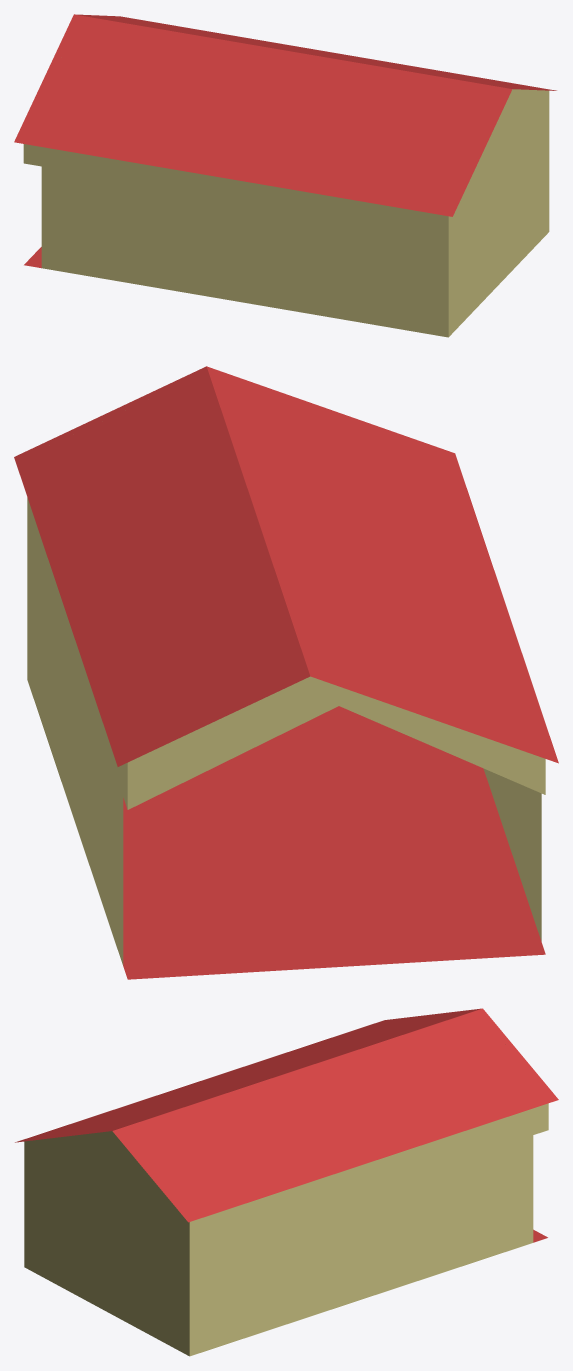
3 views of the same model, one above another, from view 1: azimuth 30°, elevation 25°; view 2: azimuth 150°, elevation 25°; view 3: azimuth 270°, elevation 25° (orthographic). The views are drawn at different scales.
Bounding box in the file's own units: 34.61 × 36.78 × 14.05.
